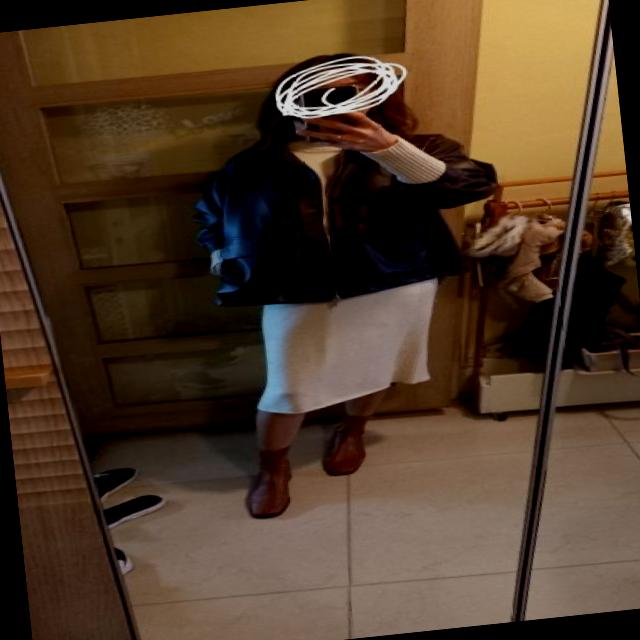jacket: (183, 118, 505, 318)
skirt: (252, 276, 458, 424)
